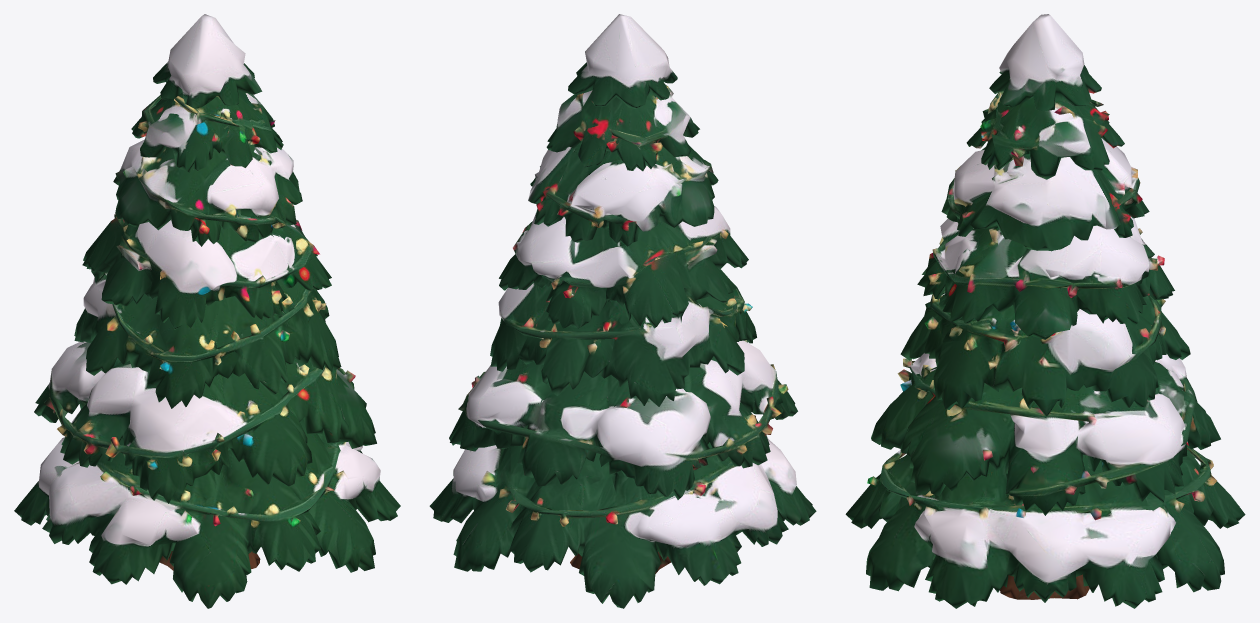
The model's file is christmas_tree.glb.
3 renders of one model, left to right at view 1: azimuth 30°, elevation 25°; view 2: azimuth 150°, elevation 25°; view 3: azimuth 270°, elevation 25°, orthographic. The views are drawn at different scales.
Visible parts, largest first — view 1: Mesh_0; view 2: Mesh_0; view 3: Mesh_0.
Boxes of the visible parts, x1,y1,x2,y2 form: Mesh_0: (14, 14, 400, 608); Mesh_0: (429, 14, 816, 608); Mesh_0: (845, 14, 1245, 608).
Bounding box in the file's own units: 1.16 × 1.89 × 1.22.
Materials: 1 (1 with a texture image).
